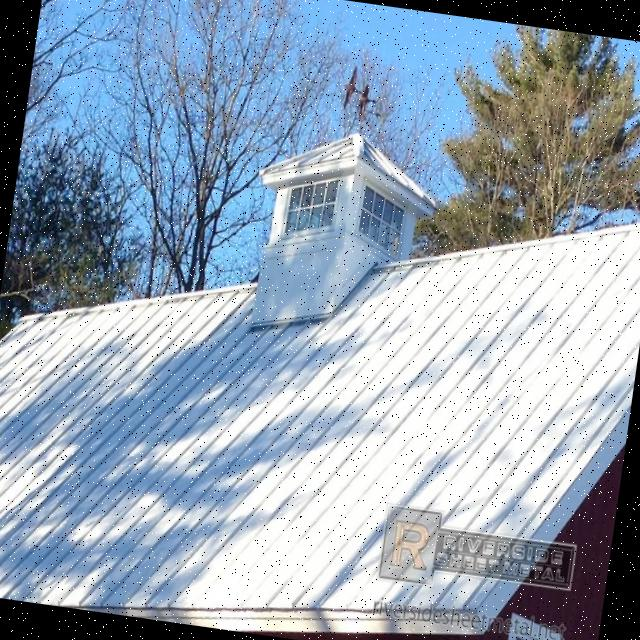bird: (341, 66, 360, 110)
